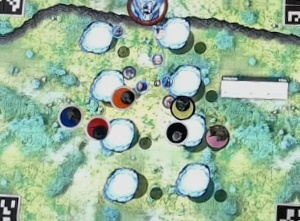black: (165, 119, 189, 143)
blue: (58, 105, 82, 128)
lime_green_violet: (168, 94, 192, 118)
orange: (111, 85, 134, 109)
pink_green: (204, 123, 228, 147)
red: (85, 116, 109, 140)
